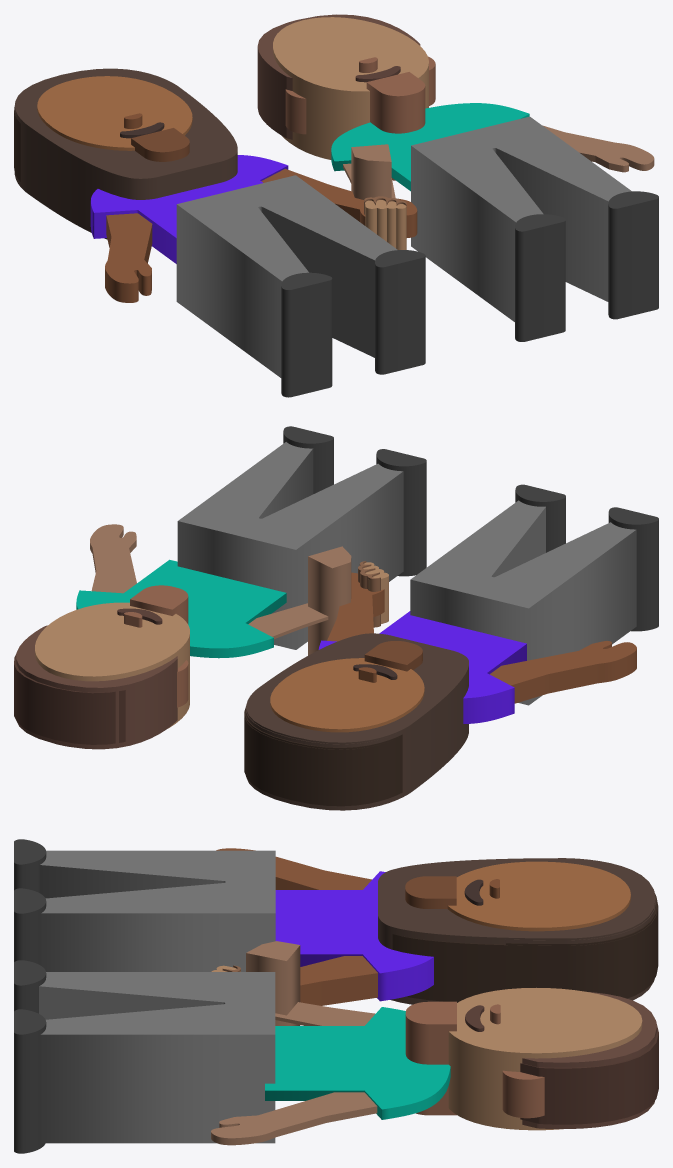
The model's file is emoji_u1f469_1f3fe_200d_1f91d_200d_1f468_1f3fd.glb.
The picture shows the model from 3 angles, top to bottom: view 1: azimuth 30°, elevation 25°; view 2: azimuth 150°, elevation 25°; view 3: azimuth 270°, elevation 25°; orthographic projection. The views are drawn at different scales.
Parts seen in each view (by area): view 1: emoji_u1f469_1f3fe_200d_1f91d_200d_1f468_1f3fd; view 2: emoji_u1f469_1f3fe_200d_1f91d_200d_1f468_1f3fd; view 3: emoji_u1f469_1f3fe_200d_1f91d_200d_1f468_1f3fd.
Boxes of the visible parts, x1=… form: emoji_u1f469_1f3fe_200d_1f91d_200d_1f468_1f3fd: x1=14, y1=14, x2=658, y2=397; emoji_u1f469_1f3fe_200d_1f91d_200d_1f468_1f3fd: x1=14, y1=426, x2=658, y2=810; emoji_u1f469_1f3fe_200d_1f91d_200d_1f468_1f3fd: x1=14, y1=839, x2=658, y2=1153.
Size of the model in its own units: 0.0346 by 0.0068 by 0.0334.
